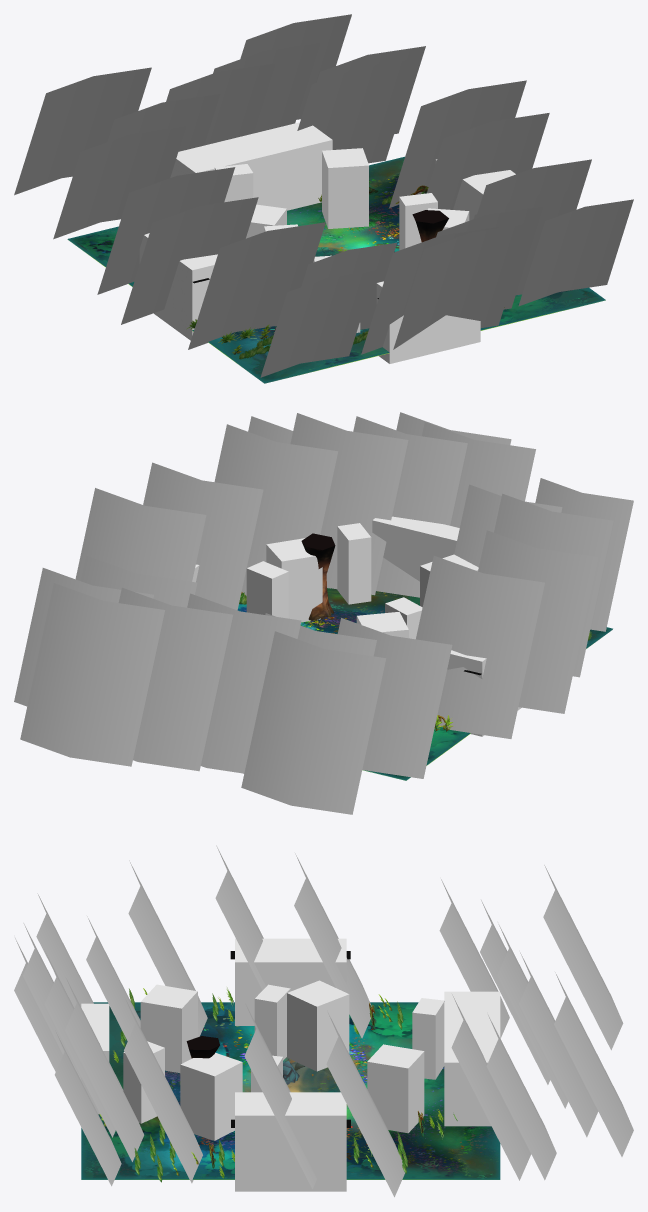
File: FieldDungeon_02_001_Room_001.fbx
The picture shows the model from 3 angles, top to bottom: view 1: azimuth 30°, elevation 25°; view 2: azimuth 150°, elevation 25°; view 3: azimuth 270°, elevation 25°; orthographic projection. The views are drawn at different scales.
Visible parts, largest first — view 1: FieldArea_02_001_tree_1_BB, FieldArea_02_001_tree_1_AA, DoorWay_NavMask (1) (×8), FieldDungeon_02_001_Door_Back_001, FieldDungeon_02_001_Door_Right_001, FieldDungeon_02_001_Door_Left_001, FieldDungeon_02_001_Door_Front_001, FieldArea_02_001_ground2, Cube_08, Cube_04, FieldArea_02_001_kusa, Cube_06 (+4 smaller); view 2: FieldArea_02_001_tree_1_BB, FieldArea_02_001_tree_1_AA, FieldDungeon_02_001_Door_Right_001, FieldDungeon_02_001_Door_Front_001, FieldDungeon_02_001_Door_Left_001, FieldDungeon_02_001_Door_Back_001, DoorWay_NavMask (1) (×2), Cube_07, Cube_03, FieldArea_02_001_ground2, Cube_04, Dungeon_011_Object_010 (+3 smaller); view 3: DoorWay_NavMask (1) (×6), FieldArea_02_001_tree_1_BB, FieldArea_02_001_tree_1_AA, FieldArea_02_001_ground2, FieldDungeon_02_001_Door_Left_001, FieldDungeon_02_001_Door_Right_001, FieldDungeon_02_001_Door_Front_001, FieldDungeon_02_001_Door_Back_001, Cube_02, Cube_07, Cube_08, Cube_01 (+8 smaller).
Boxes of the visible parts, x1,y1,x2,y2 form: FieldArea_02_001_tree_1_BB: [14, 14, 425, 239]; FieldArea_02_001_tree_1_AA: [188, 159, 633, 377]; DoorWay_NavMask (1) (×8): [139, 122, 515, 363]; FieldDungeon_02_001_Door_Back_001: [361, 206, 543, 354]; FieldDungeon_02_001_Door_Right_001: [97, 167, 258, 324]; FieldDungeon_02_001_Door_Left_001: [389, 80, 549, 209]; FieldDungeon_02_001_Door_Front_001: [166, 43, 320, 145]; FieldArea_02_001_ground2: [68, 156, 605, 383]; Cube_08: [322, 148, 368, 228]; Cube_04: [399, 193, 437, 250]; FieldArea_02_001_kusa: [187, 185, 504, 359]; Cube_06: [214, 164, 253, 202]; FieldArea_02_001_tree_1_BB: [14, 555, 452, 814]; FieldArea_02_001_tree_1_AA: [214, 413, 633, 677]; FieldDungeon_02_001_Door_Right_001: [416, 530, 597, 738]; FieldDungeon_02_001_Door_Front_001: [118, 587, 301, 773]; FieldDungeon_02_001_Door_Left_001: [75, 462, 263, 610]; FieldDungeon_02_001_Door_Back_001: [353, 412, 535, 597]; DoorWay_NavMask (1) (×2): [372, 516, 521, 736]; Cube_07: [266, 538, 322, 622]; Cube_03: [337, 523, 371, 604]; FieldArea_02_001_ground2: [300, 588, 612, 780]; Cube_04: [246, 561, 288, 618]; Dungeon_011_Object_010: [301, 533, 335, 620]; DoorWay_NavMask (1) (×6): [81, 938, 500, 1191]; FieldArea_02_001_tree_1_BB: [439, 865, 633, 1180]; FieldArea_02_001_tree_1_AA: [36, 860, 207, 1186]; FieldArea_02_001_ground2: [81, 1002, 500, 1179]; FieldDungeon_02_001_Door_Left_001: [244, 1004, 404, 1197]; FieldDungeon_02_001_Door_Right_001: [215, 845, 373, 1038]; FieldDungeon_02_001_Door_Front_001: [497, 924, 598, 1137]; FieldDungeon_02_001_Door_Back_001: [14, 923, 115, 1137]; Cube_02: [287, 980, 349, 1071]; Cube_07: [180, 1052, 242, 1140]; Cube_08: [367, 1044, 424, 1133]; Cube_01: [140, 984, 197, 1072].
Size of what is drawn, in the model's own units: 18.73 by 5.99 by 22.19.
